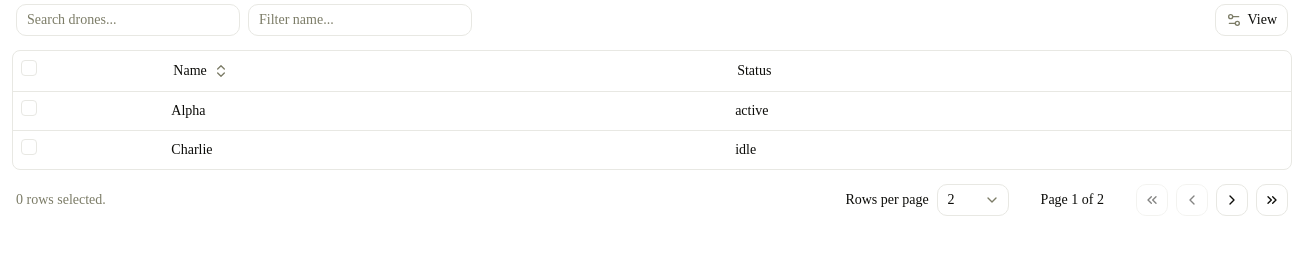
Test: DataTable › supports row selection, select-all on page, actionBar, and Escape to clear
Later steps or results of the test are not shown.
Click the checkbox named "Select row" next to "Alpha". click: coordinates (29, 108)
box: top-left (21, 100), bottom-right (37, 116)
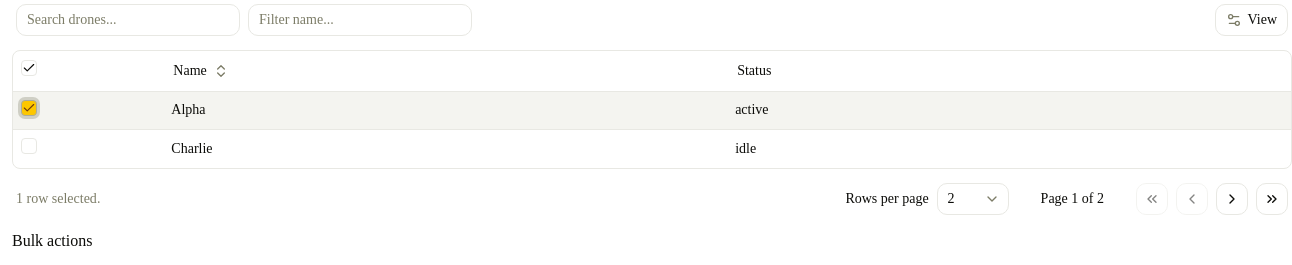
Result: the text "Bulk actions" is shown at top-left (12, 232), bottom-right (92, 248)
